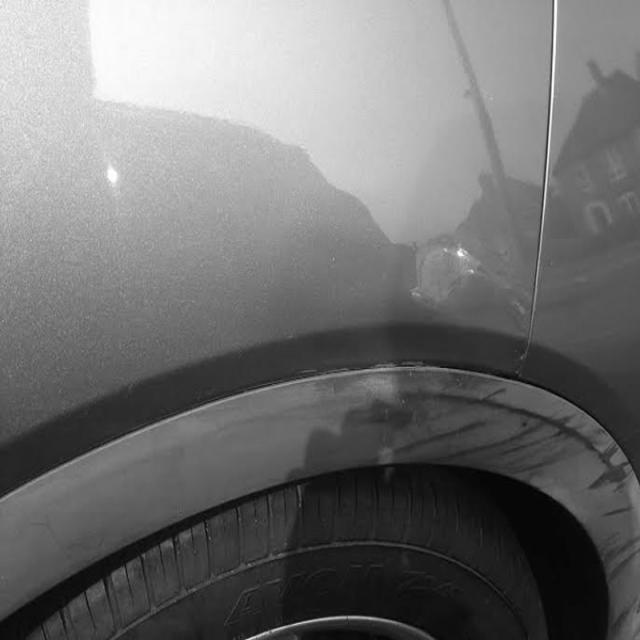scratch: (212, 365, 640, 640)
